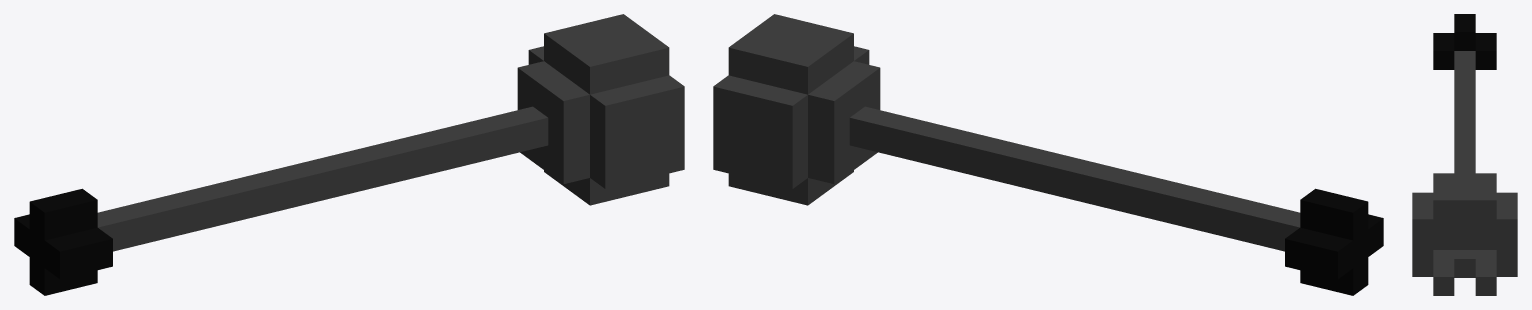
File: stug-1.obj
The picture shows the model from 3 angles, left to right: view 1: azimuth 30°, elevation 25°; view 2: azimuth 150°, elevation 25°; view 3: azimuth 270°, elevation 25°; orthographic projection. The views are drawn at different scales.
Parts seen in each view (by area): view 1: stug-1; view 2: stug-1; view 3: stug-1.
Part boxes in pixels (x1,y1,x2,y2): stug-1: (14,14,684,295); stug-1: (713,14,1383,295); stug-1: (1412,14,1517,295).
Size of the model in its own units: 23 by 5 by 5.
1 material, 1 textured.
